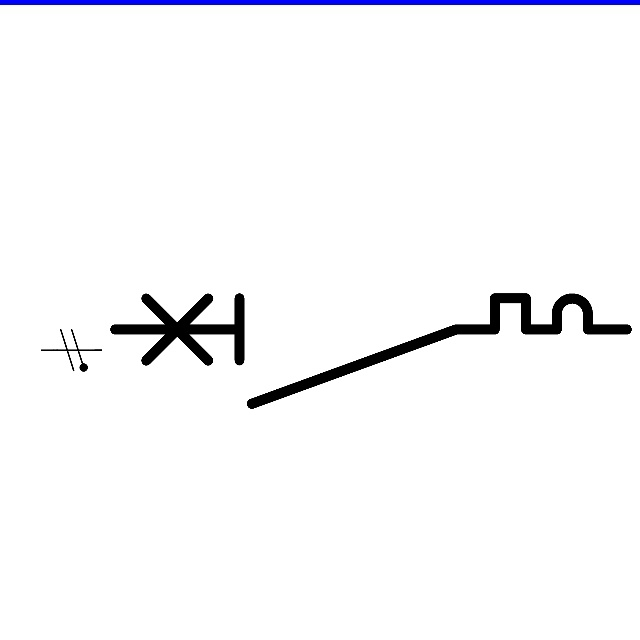interruptor_termomagnetico: (101, 285, 639, 416)
